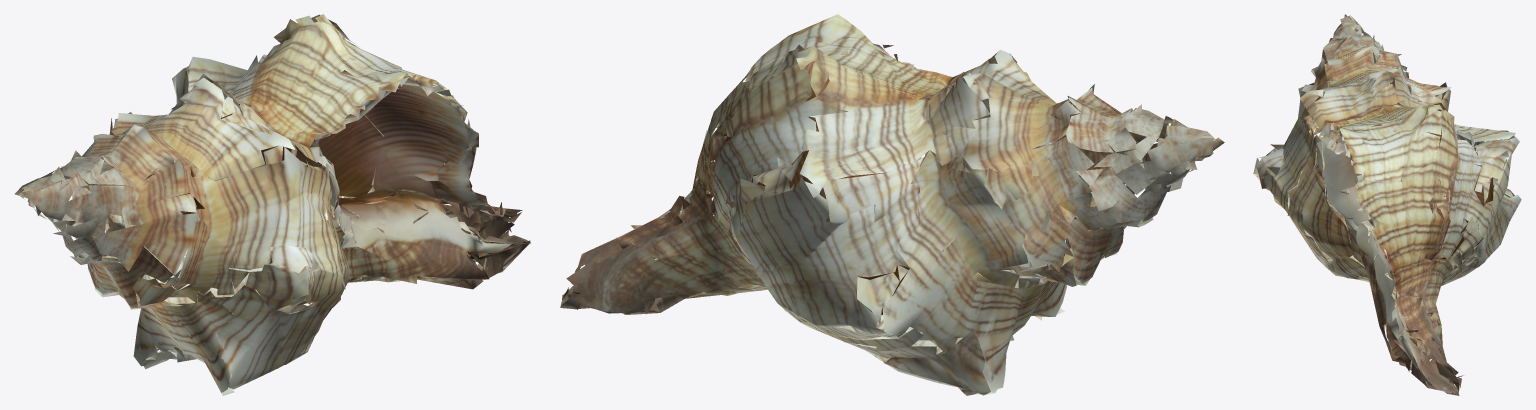
The model's file is conch.glb.
3 renders of one model, left to right at view 1: azimuth 30°, elevation 25°; view 2: azimuth 150°, elevation 25°; view 3: azimuth 270°, elevation 25°, orthographic. The views are drawn at different scales.
Parts seen in each view (by area): view 1: Object_2; view 2: Object_2; view 3: Object_2.
Part boxes in pixels (x1,y1,x2,y2): Object_2: (15, 14, 530, 395); Object_2: (560, 14, 1224, 395); Object_2: (1253, 14, 1521, 395).
Size of the model in its own units: 0.2058 by 0.103 by 0.1138.
1 material, 1 textured.
